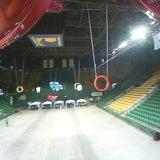Orange_Circle_GShape: (93, 75, 109, 92)
Yellow_Circle_GShape: (17, 86, 23, 92)
